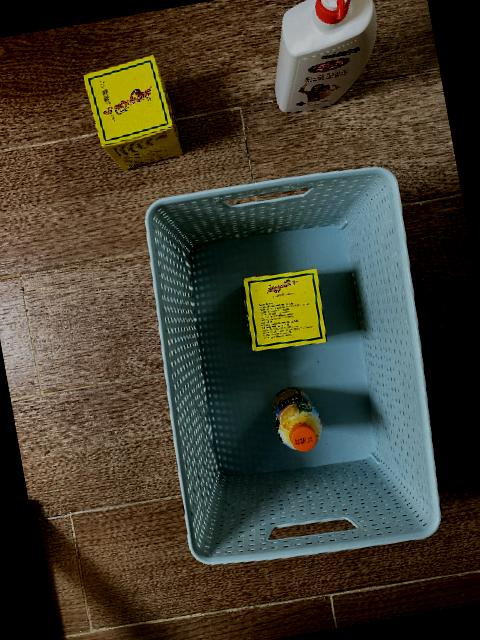cart: (144, 167, 442, 567)
life-buoy: (274, 0, 376, 114)
luong_kho: (243, 268, 327, 351)
milo: (82, 55, 183, 171)
teppy_orange_juice: (272, 387, 322, 452)
